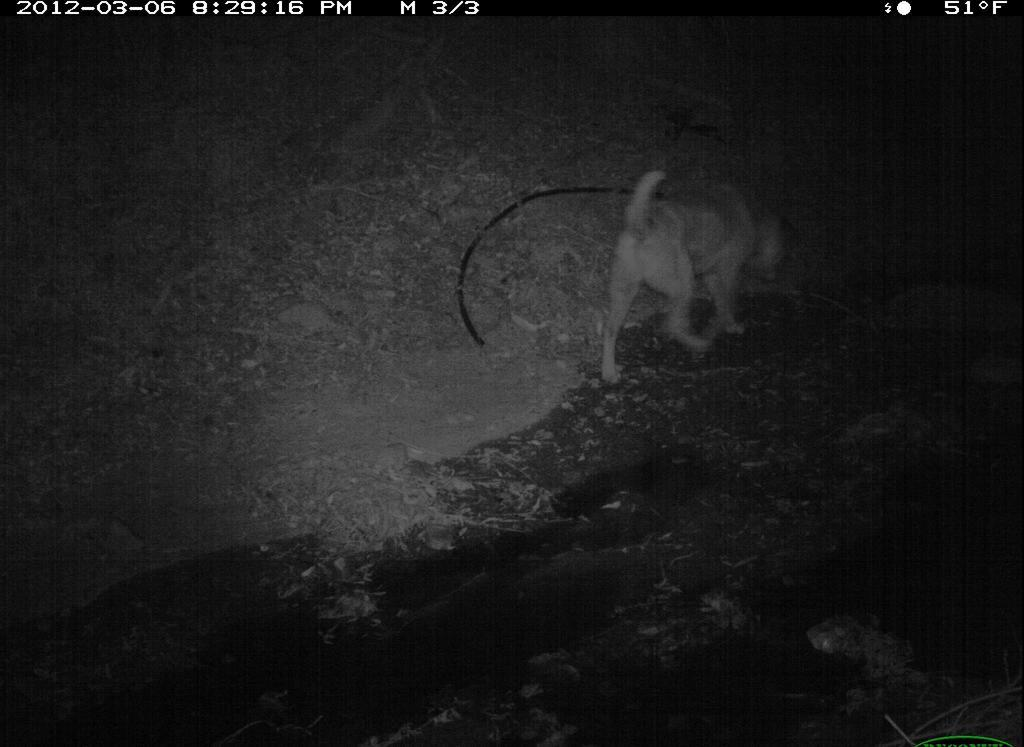dog: (594, 159, 806, 396)
